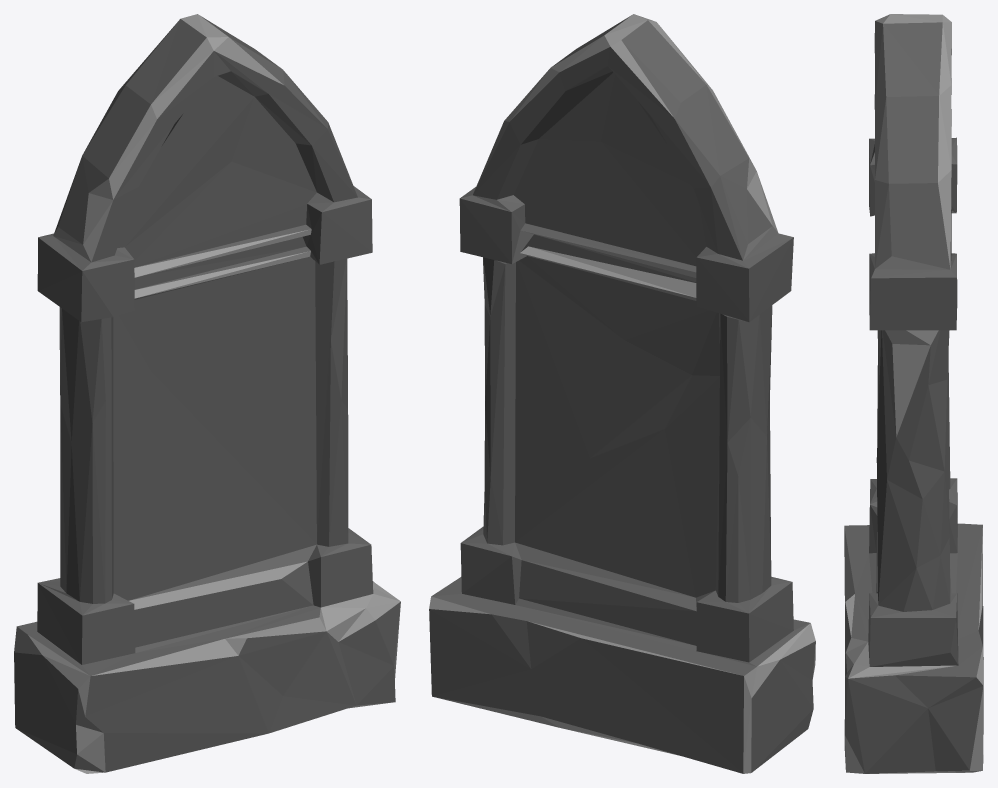
File: MDungeon_Tombstone_01.FBX
3 renders of one model, left to right at view 1: azimuth 30°, elevation 25°; view 2: azimuth 150°, elevation 25°; view 3: azimuth 270°, elevation 25°, orthographic.
Visible parts, largest first — view 1: MDungeon_Tombstone_01_LOD0; view 2: MDungeon_Tombstone_01_LOD0; view 3: MDungeon_Tombstone_01_LOD0.
Part boxes in pixels (<box>): MDungeon_Tombstone_01_LOD0: <box>14,14,400,773</box>; MDungeon_Tombstone_01_LOD0: <box>429,14,815,773</box>; MDungeon_Tombstone_01_LOD0: <box>844,14,983,773</box>.
Size of what is drawn, in the model's own units: 1 by 2.04 by 0.3803.
